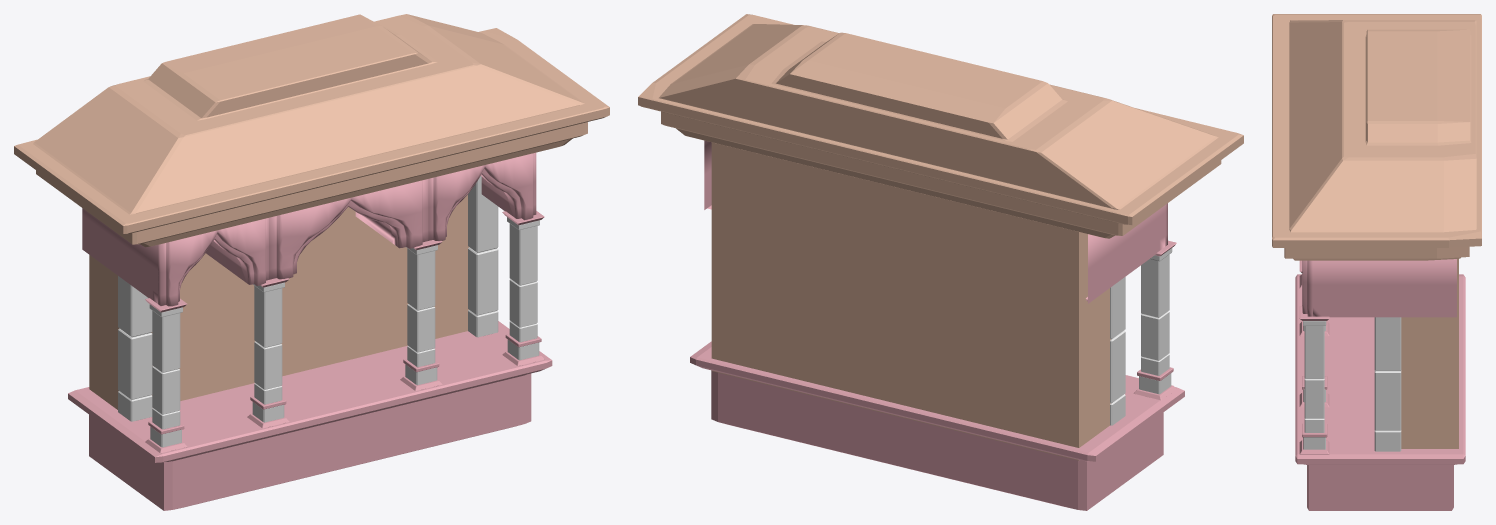
File: fbx_Alcove_01.fbx
3 views of the same model, side by side, from view 1: azimuth 30°, elevation 25°; view 2: azimuth 150°, elevation 25°; view 3: azimuth 270°, elevation 25° (orthographic). The views are drawn at different scales.
Visible parts, largest first — view 1: Cube; view 2: Cube; view 3: Cube.
Boxes of the visible parts, x1,y1,x2,y2 form: Cube: (14, 14, 609, 510); Cube: (638, 14, 1243, 510); Cube: (1272, 14, 1481, 510).
Size of the model in its own units: 1638 by 1184 by 642.
